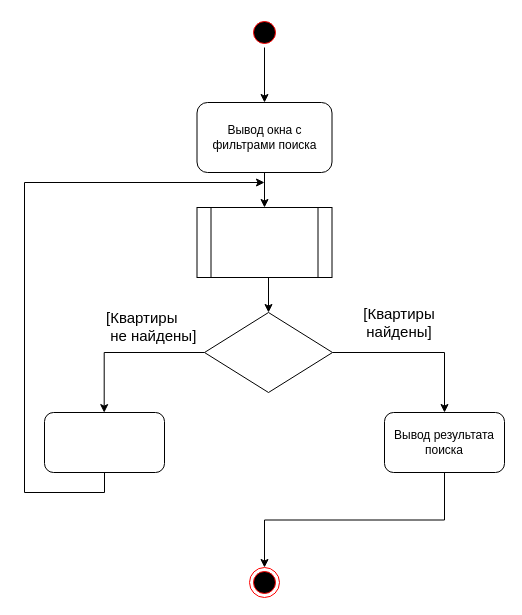
Image size: 522x615. Some labels were removed from this diagram. Each missing label, with the box of its shape:
"Поиск не дал результатов. Задайте другие фильтры": (44, 412, 164, 472)
Пользователь выбирает фильтры и наживает кнопку "Поиск": (196, 206, 332, 278)
